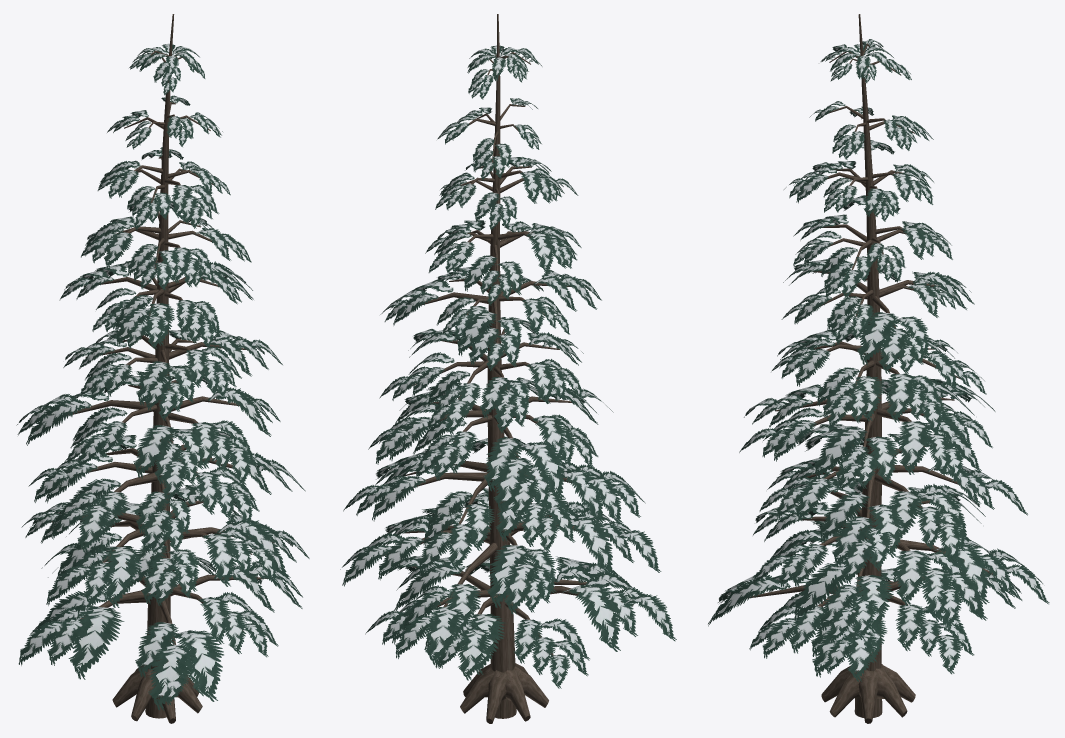
File: snow_spruce.glb
3 views of the same model, side by side, from view 1: azimuth 30°, elevation 25°; view 2: azimuth 150°, elevation 25°; view 3: azimuth 270°, elevation 25° (orthographic).
Parts seen in each view (by area): view 1: snow_spruce; view 2: snow_spruce; view 3: snow_spruce.
Part boxes in pixels (box(x1,y1,x2,y2)): snow_spruce: box(16, 14, 309, 723); snow_spruce: box(340, 14, 676, 723); snow_spruce: box(708, 14, 1049, 723).
Size of the model in its own units: 3.8 by 8.6 by 3.8.
Materials: 2 (2 with a texture image).
